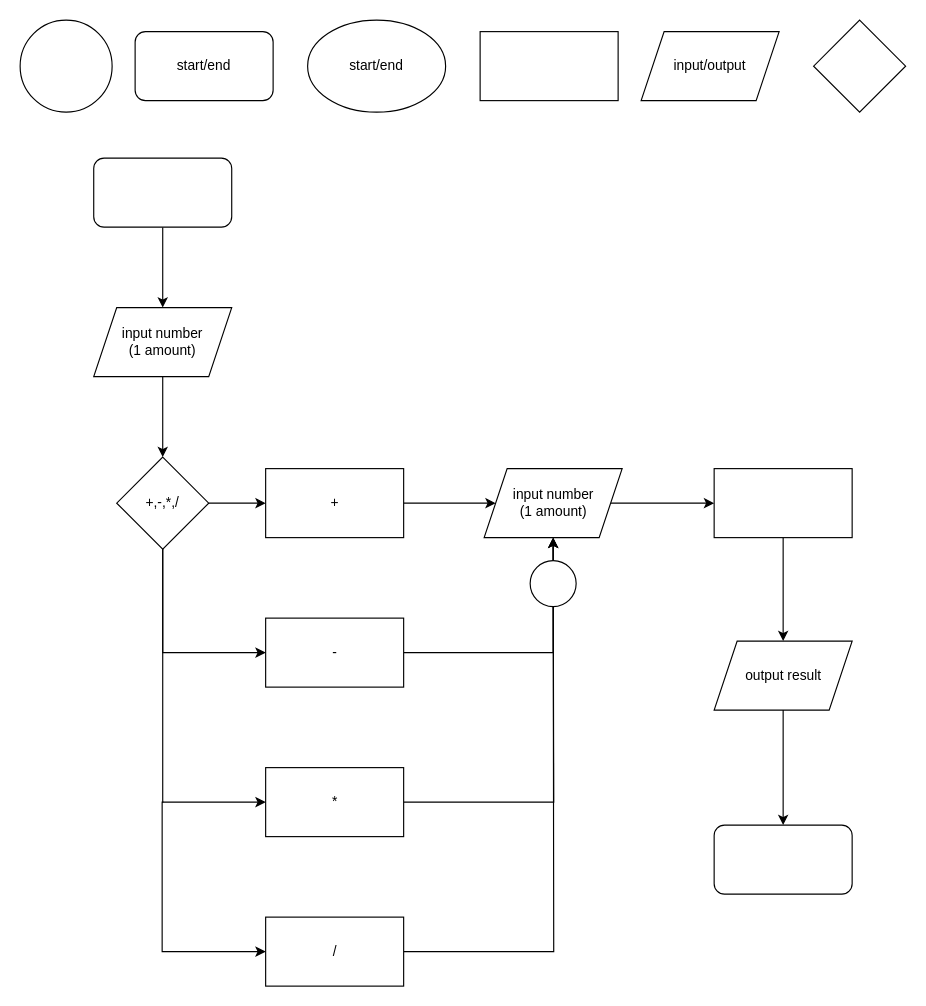
Some shapes in this 926 by 1006 pixel diagram are drawn without their labels. Here are the shapes that lost their labels. From the top down, the box of each, then its label:
(19, 19, 112, 112): connector
(479, 30, 618, 101): progress
(812, 19, 906, 112): dicision
(93, 157, 232, 227): start
(713, 467, 852, 538): calculate
(713, 824, 852, 894): end
